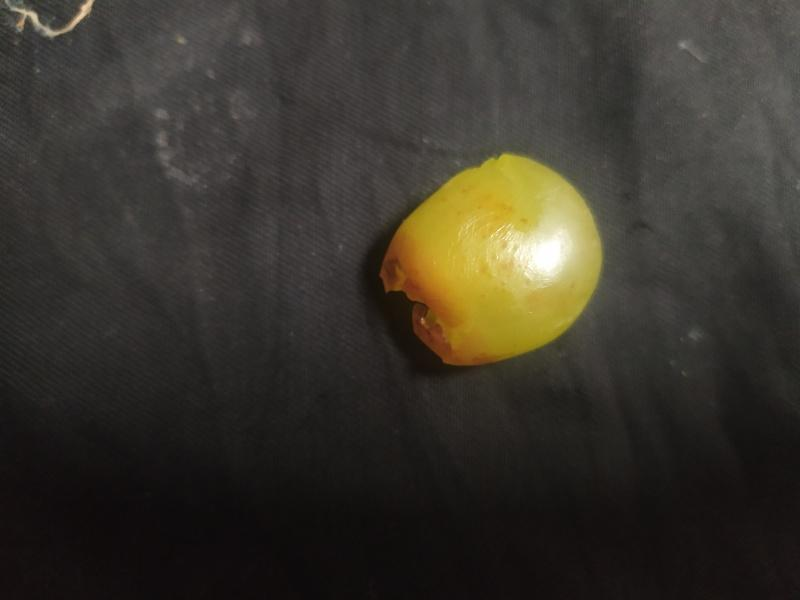Grape Overripe: (379, 149, 606, 369)
